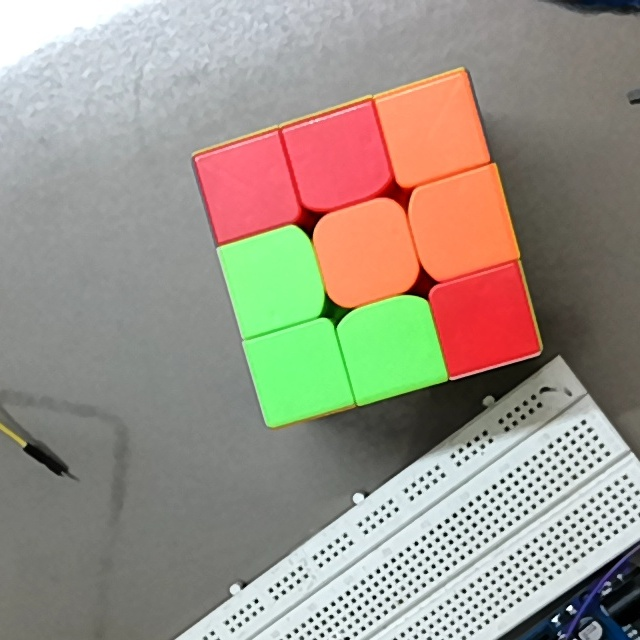tile: (325, 218, 405, 288), (400, 93, 472, 166), (429, 188, 500, 261), (360, 310, 431, 383), (452, 282, 522, 356), (213, 154, 284, 224), (267, 336, 335, 409), (235, 245, 309, 312), (304, 128, 373, 194)
